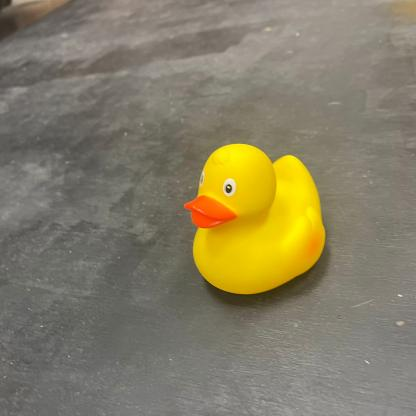duck: (183, 140, 329, 300)
